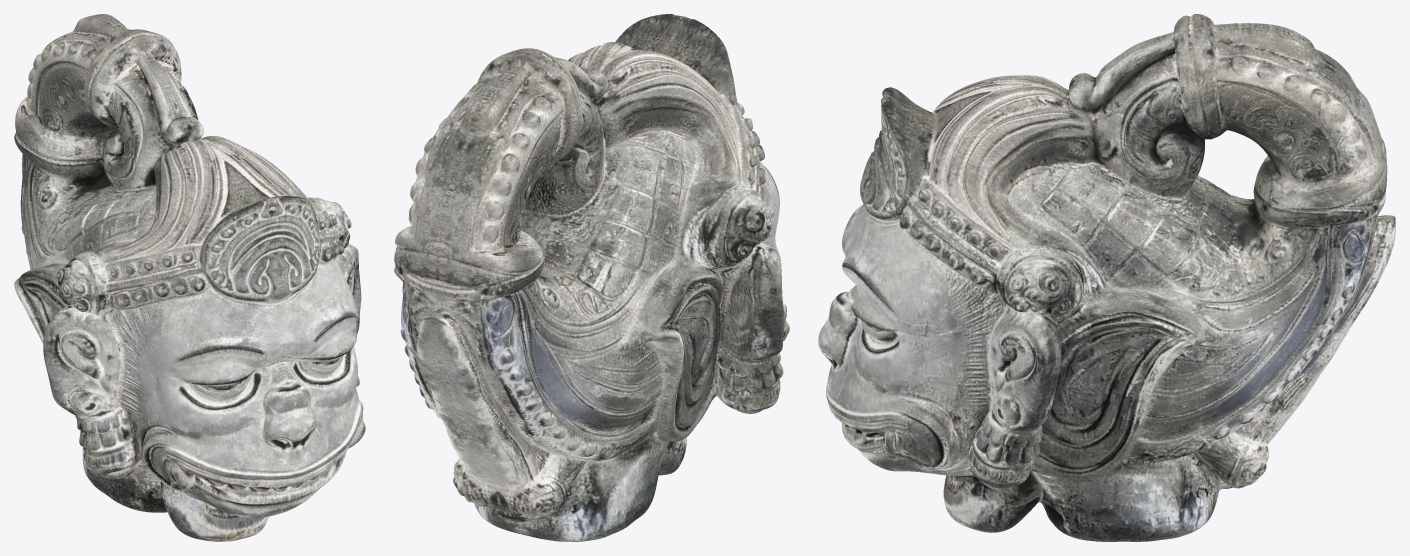
Rendered from hanoman.glb.
The picture shows the model from 3 angles, left to right: view 1: azimuth 30°, elevation 25°; view 2: azimuth 150°, elevation 25°; view 3: azimuth 270°, elevation 25°; orthographic projection. The views are drawn at different scales.
Visible parts, largest first — view 1: Object_5; view 2: Object_5; view 3: Object_5.
Boxes of the visible parts, <box> form: Object_5: <box>14,14,365,541</box>; Object_5: <box>394,14,789,541</box>; Object_5: <box>818,14,1395,541</box>.
Bounding box in the file's own units: 1.38 × 1.8 × 1.9.
Materials: 1 (1 with a texture image).
